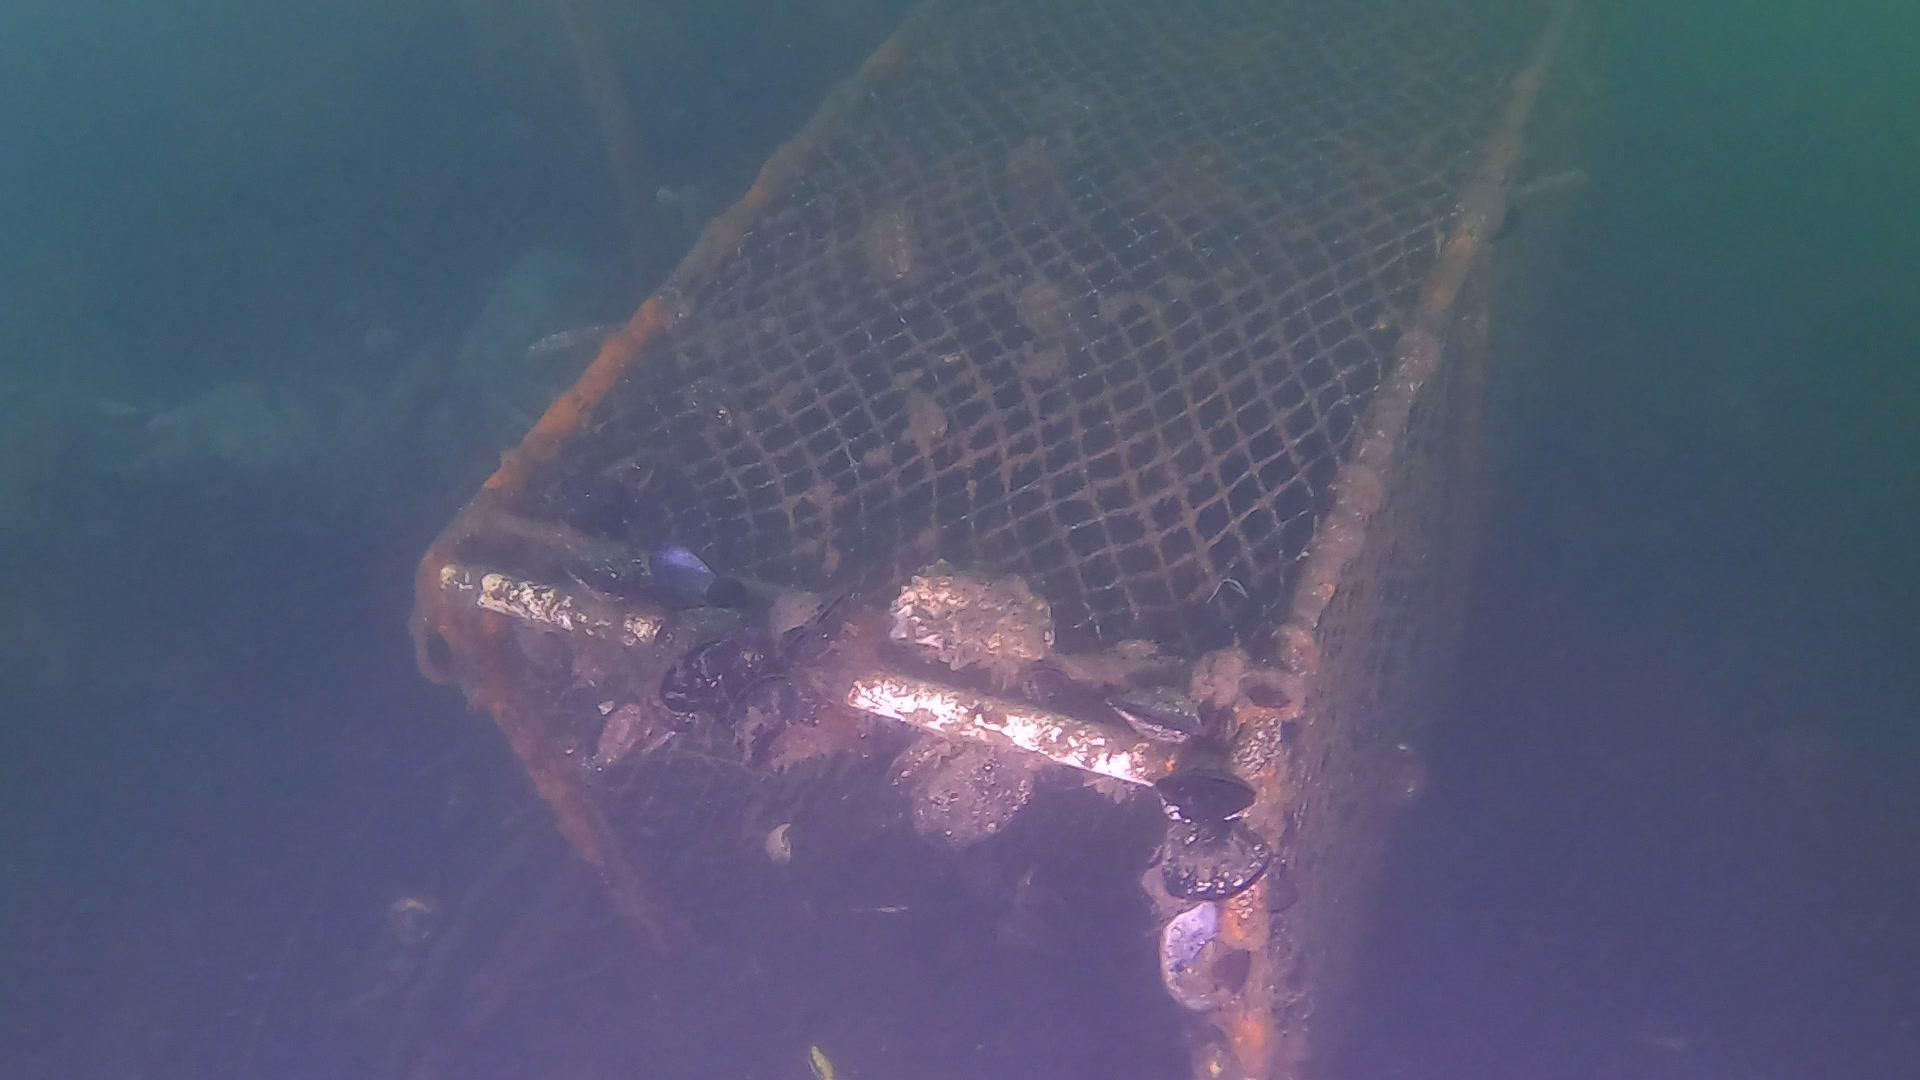rectangular fish trap: (406, 8, 1586, 1080)
